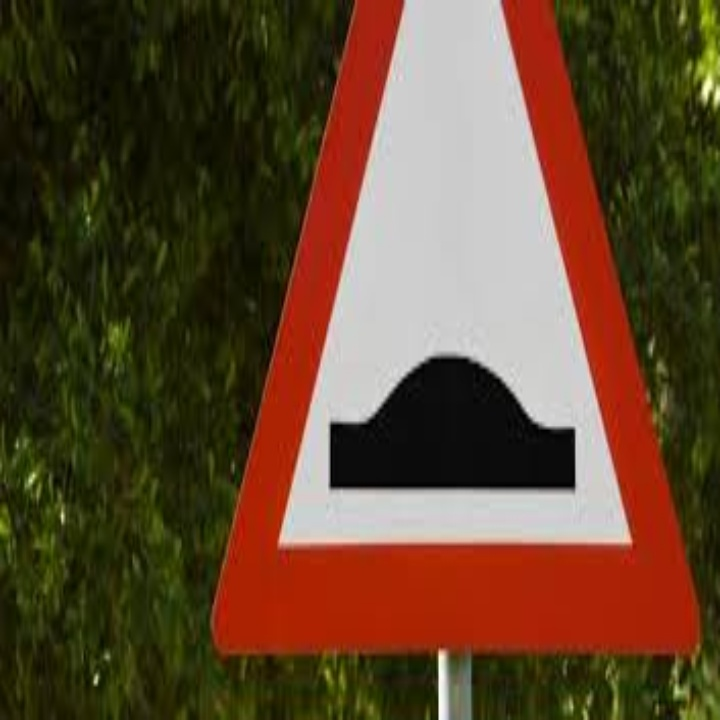bump: (195, 1, 706, 651)
